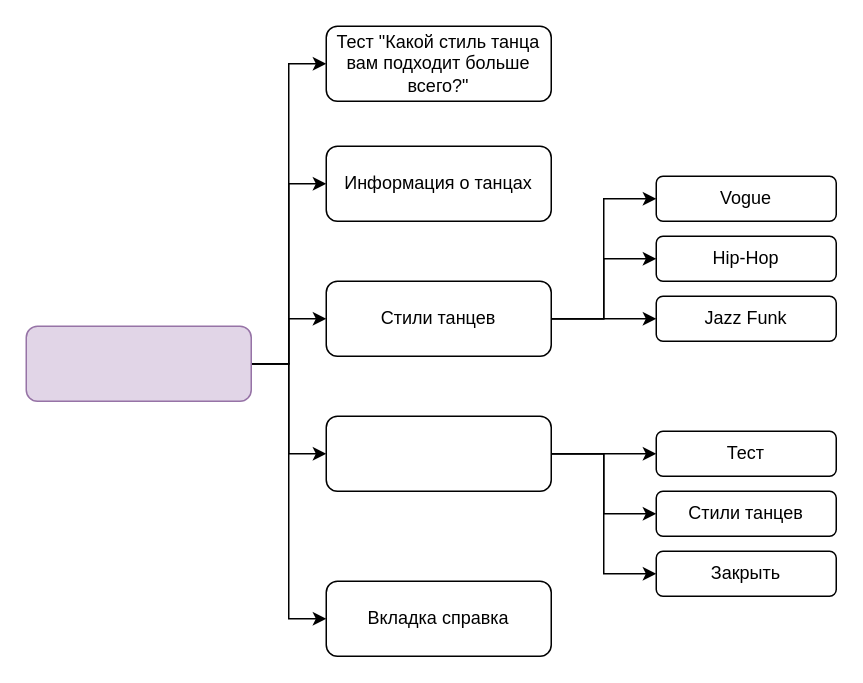
Some shapes in this 863 by 683 pixel diagram are drawn without their labels. Each missing label, with the centre of its shape:
Вкладка приложение: (x=438, y=453)
Главное меню: (x=138, y=363)
